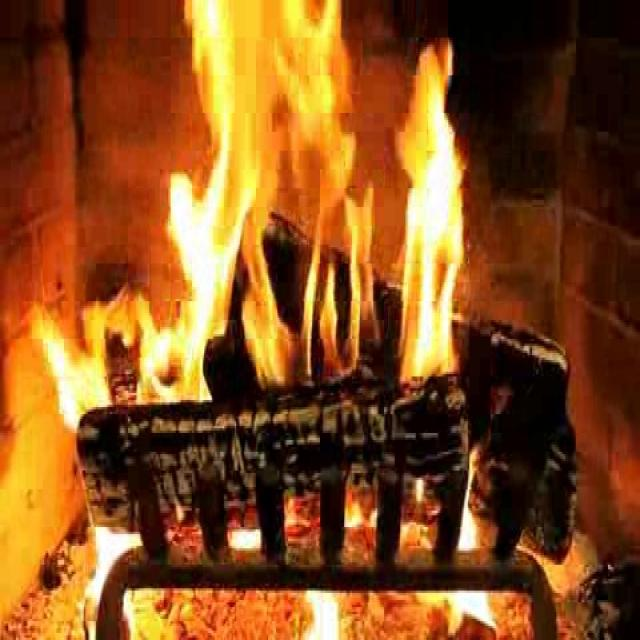fire: (157, 11, 466, 403)
